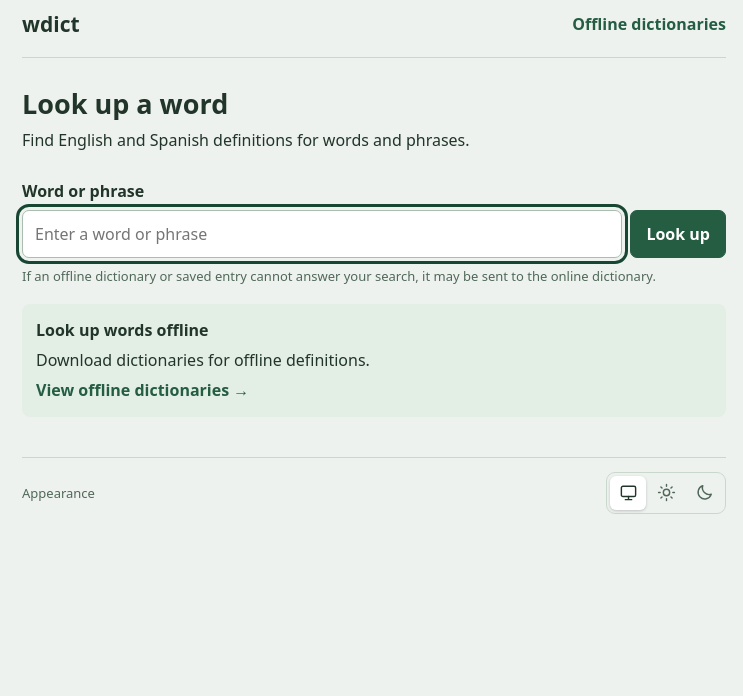
it: lookup and offline dictionary UI › given_legacy_cache_when_displayed_then_missing_attribution_is_noted (stale=false)
The image size is (743, 696).
Click the button "Look up": click(678, 234) [630,210,726,258]
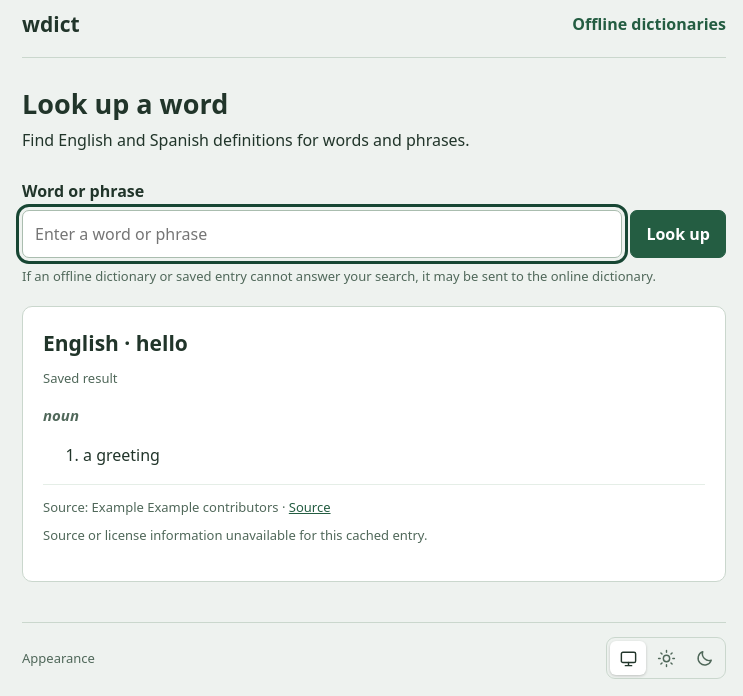
Expected: the list item "a greeting" is shown, [83,444,160,466]
Expected: the text "Source or license information unavailable for this cached entry." is shown, [43,526,428,544]
